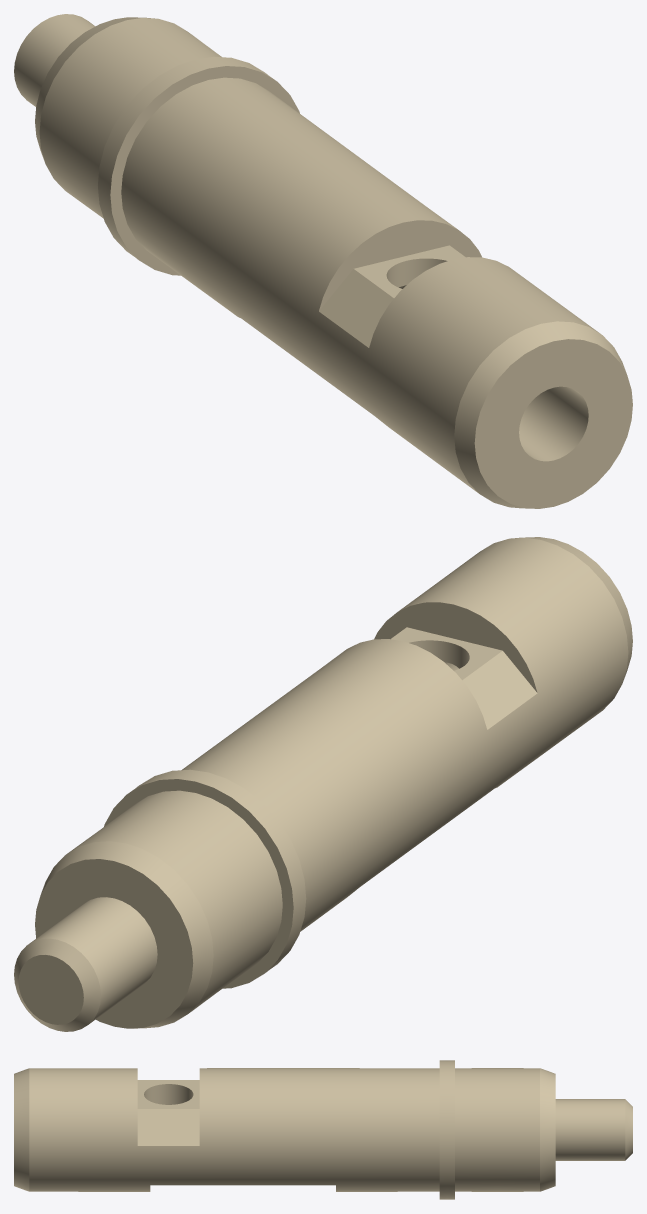
File: Kurbelwelle.glb
3 views of the same model, one above another, from view 1: azimuth 30°, elevation 25°; view 2: azimuth 150°, elevation 25°; view 3: azimuth 270°, elevation 25° (orthographic). The views are drawn at different scales.
Parts seen in each view (by area): view 1: Body1; view 2: Body1; view 3: Body1.
Part boxes in pixels (x1=…): Body1: x1=14, y1=14, x2=632, y2=508; Body1: x1=14, y1=537, x2=632, y2=1031; Body1: x1=14, y1=1060, x2=632, y2=1199.
Bounding box in the file's own units: 0.009 × 0.009 × 0.04.
